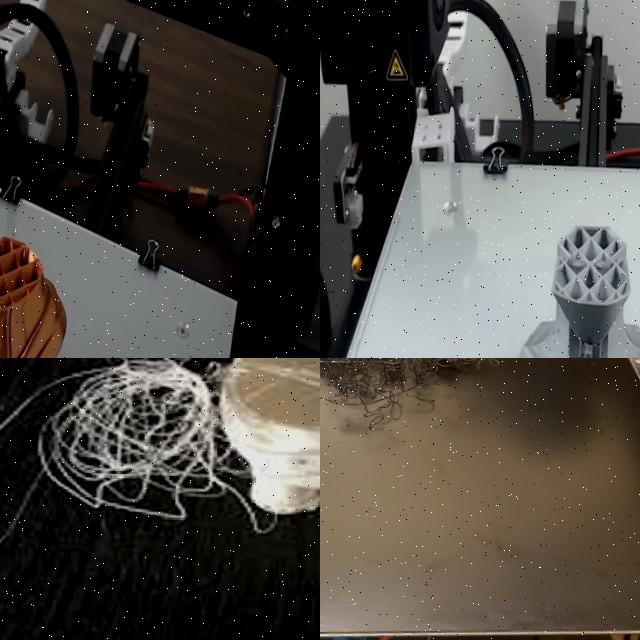spaghetti: (0, 358, 223, 551), (320, 358, 501, 433)
